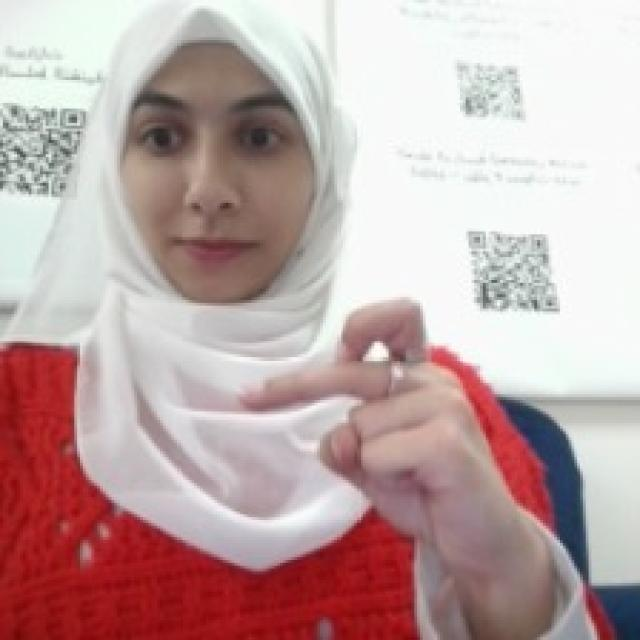sunday: (232, 287, 513, 573)
